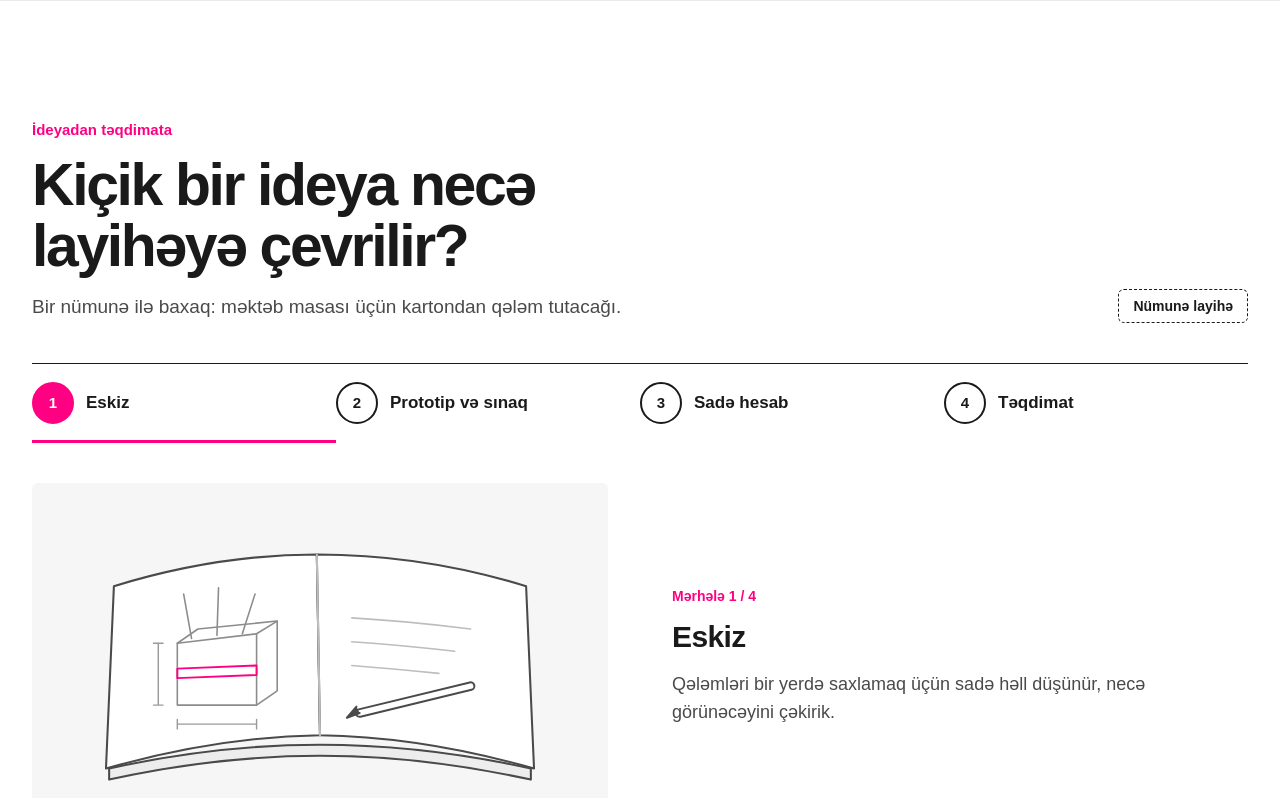
SampleProject › walks through every stage of the example project
Step 1. Click the button "2 Prototip və sınaq" → (488, 403), box [336,364,640,443]
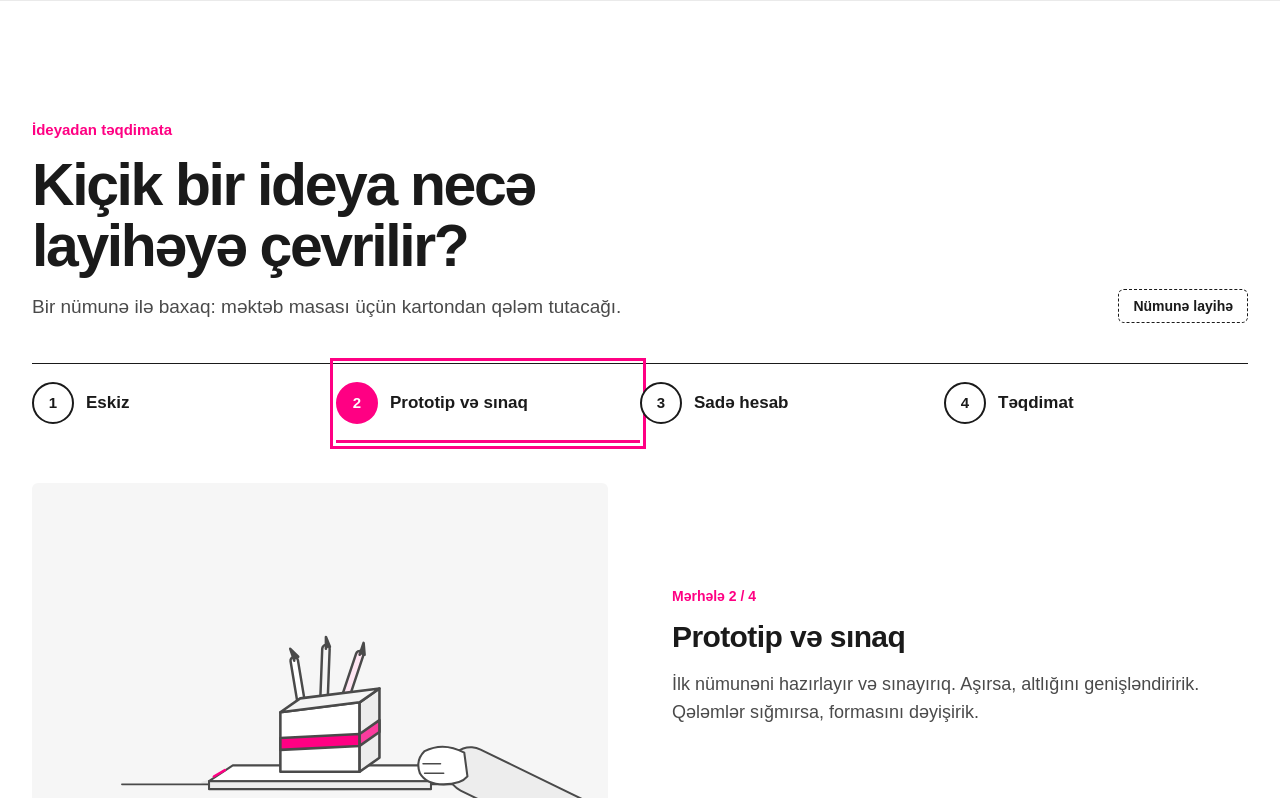
Result: the text "Mərhələ 2 / 4" is shown at [672,588,756,604]
Step 2. Click the button "3 Sadə hesab" → (661, 403), box [640,364,944,443]
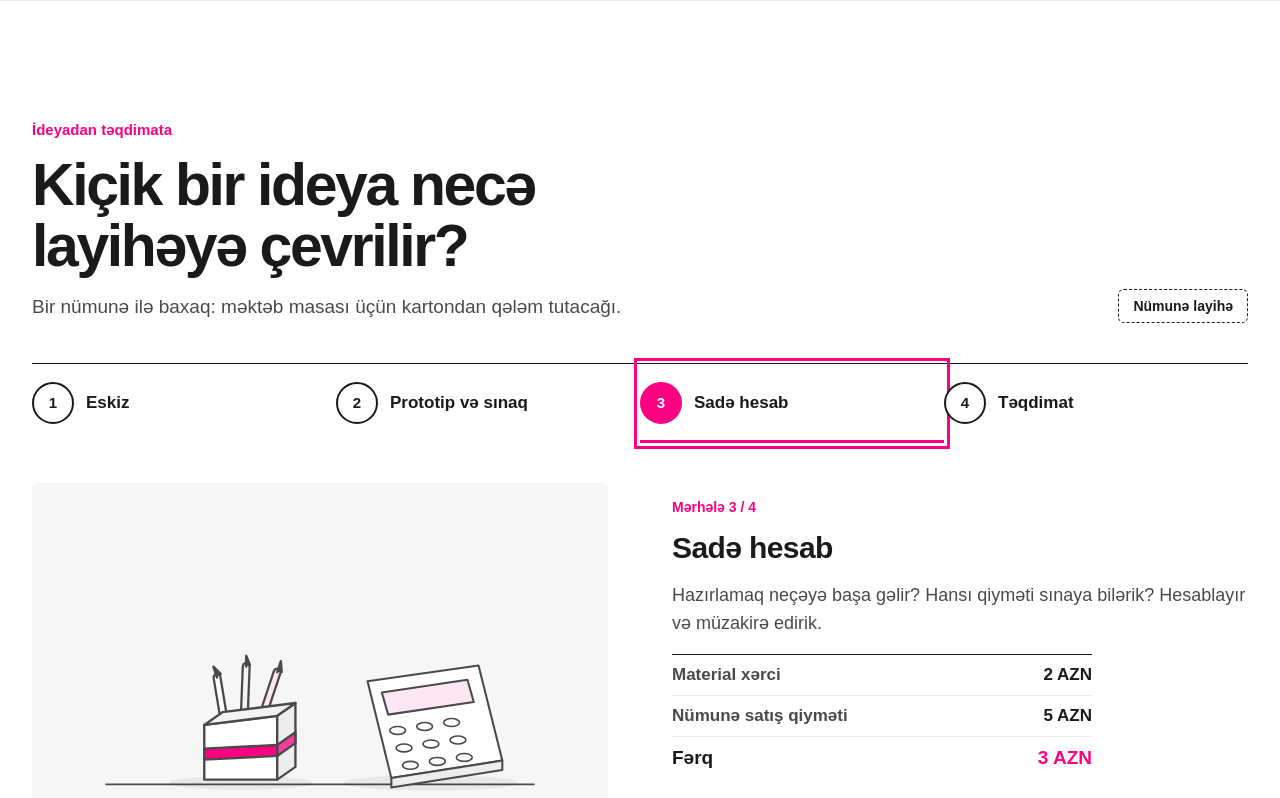
Result: the text "Material xərci" is shown at [672,665,781,685]
Result: the text "3 AZN" is shown at [1038,747,1092,769]
Step 3. Click the button "4 Təqdimat" → (965, 403), box [944,364,1248,443]
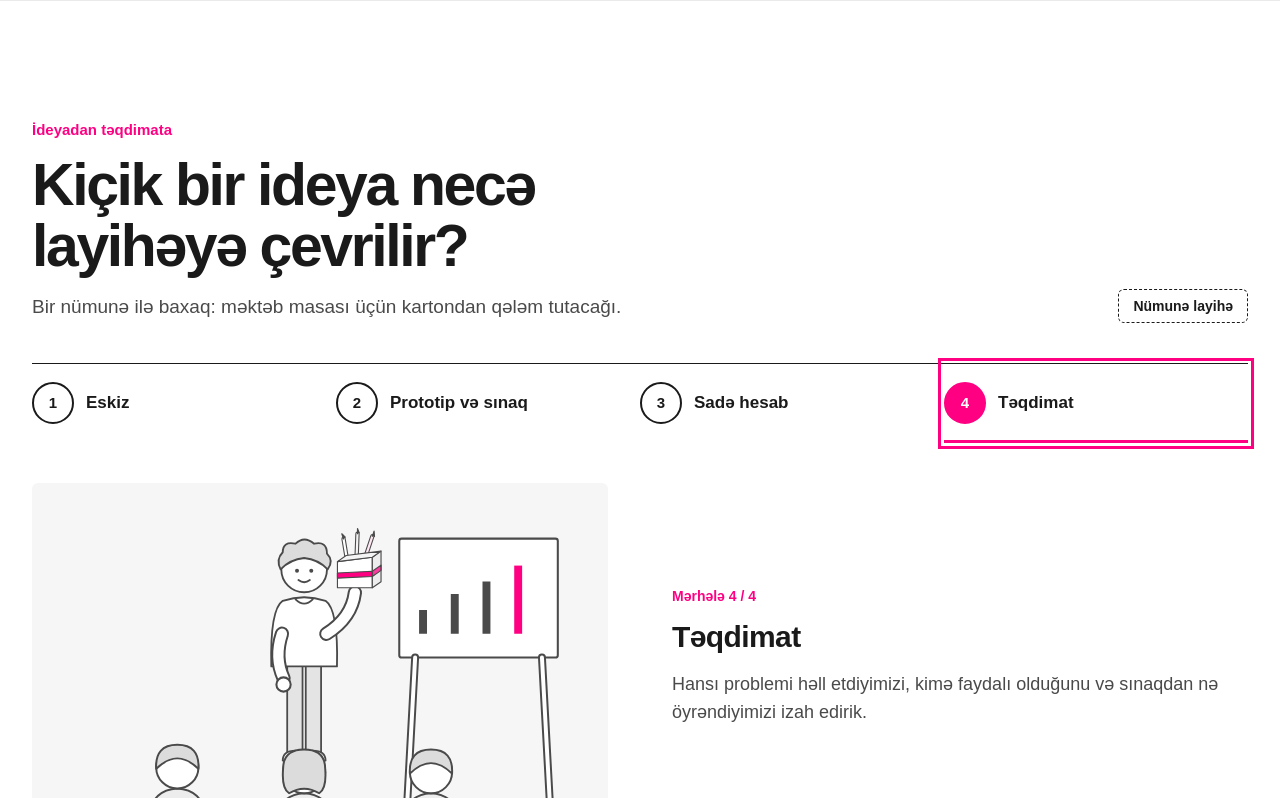
Result: the text "Mərhələ 4 / 4" is shown at [672,588,756,604]
Result: the text "Material xərci" is gone
